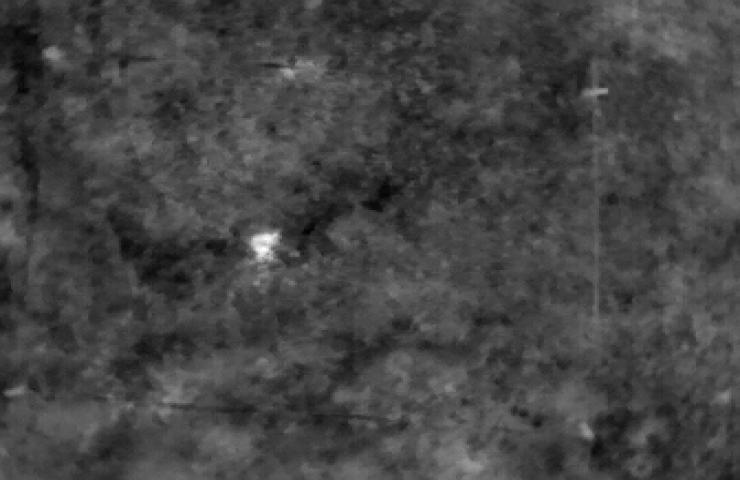landmines: (246, 228, 287, 265)
